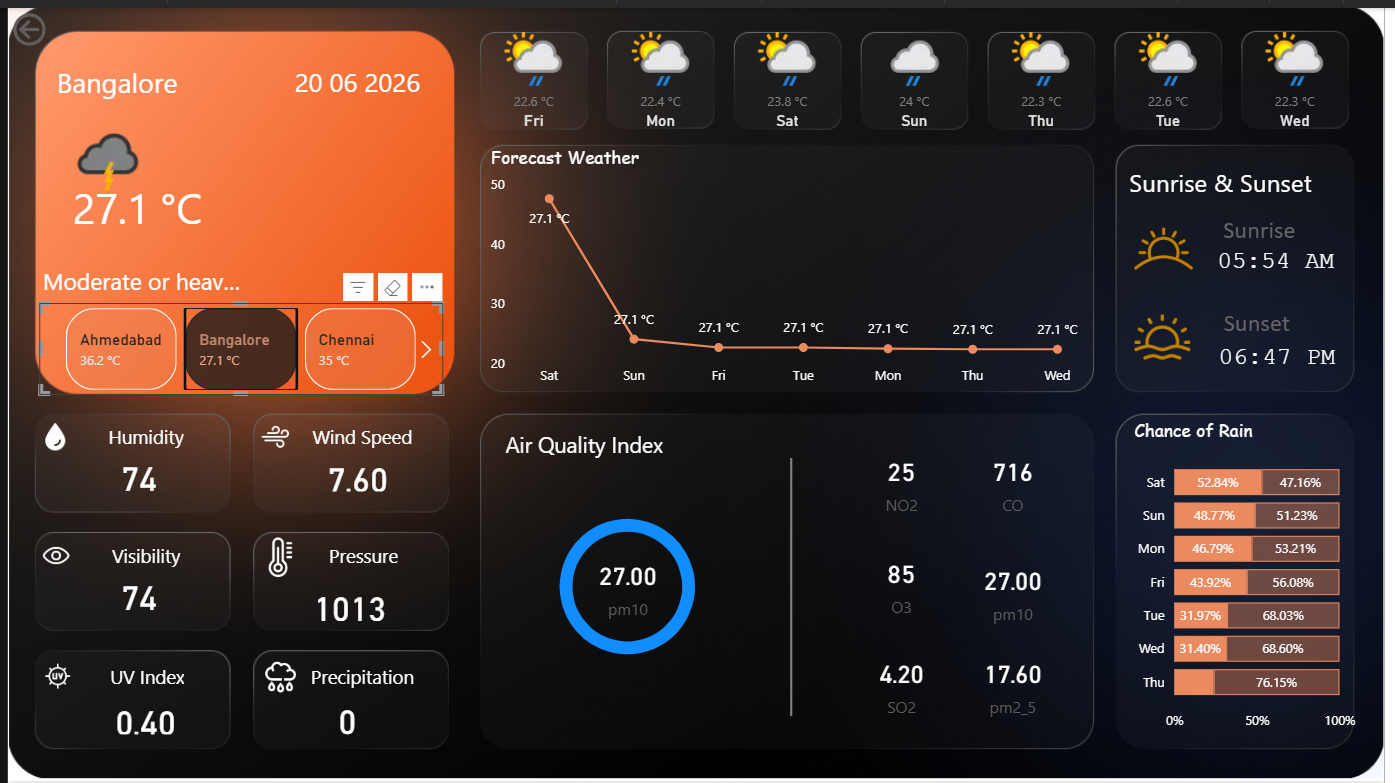

This screenshot's page, from the dashboard's own definition file:
{"tool":"powerbi","page":{"name":"Page 1","canvas":[1280,720],"ordinal":0},"visuals":[{"type":"advancedSlicerVisual","fields":{"Values":["Location.location.name"]},"box":[29.1,274.4,375.6,86],"z":0},{"type":"shape","box":[36,145.3,168.6,80.2],"z":1000},{"type":"shape","box":[25.6,233.7,191.9,40.7],"z":2000},{"type":"shape","box":[45.3,44.2,203.5,48.8],"z":3000},{"type":"shape","box":[248.8,44.2,152.3,47.7],"z":4000},{"type":"cardVisual","fields":{"Data":["Min(current.current.condition.icon)"]},"box":[36,79.1,114,117.4],"z":5000},{"type":"image","box":[25.6,360.5,37.2,76.7],"z":6000},{"type":"image","box":[230.2,360.5,37.2,76.7],"z":7000},{"type":"image","box":[25.6,470.9,38.4,76.7],"z":8000},{"type":"image","box":[230.2,483.7,46.5,54.7],"z":9000},{"type":"image","box":[29.1,577.9,34.9,87.2],"z":10000},{"type":"image","box":[225.6,600,55.8,45.3],"z":11000},{"type":"shape","box":[52.3,381.4,152.3,33.7],"z":12000},{"type":"shape","box":[253.5,381.4,152.3,33.7],"z":13000},{"type":"shape","box":[52.3,491.9,152.3,33.7],"z":14000},{"type":"shape","box":[53.5,604.7,152.3,33.7],"z":15000},{"type":"shape","box":[254.7,491.9,152.3,33.7],"z":16000},{"type":"shape","box":[253.5,604.7,152.3,33.7],"z":17000},{"type":"card","fields":{"Values":["Sum(current.current.humidity)"]},"box":[80.2,418.6,83.7,36],"z":18000},{"type":"card","fields":{"Values":["Sum(current.current.wind_kph)"]},"box":[283.8,418.8,83.8,36.2],"z":19000},{"type":"card","fields":{"Values":["Sum(current.current.humidity)"]},"box":[80.2,529.1,83.7,36],"z":20000},{"type":"card","fields":{"Values":["Sum(current.current.pressure_mb)"]},"box":[276.7,538,83.1,36.8],"z":21000},{"type":"card","fields":{"Values":["Sum(current.current.uv)"]},"box":[85.5,644.9,84.3,35.6],"z":22000},{"type":"card","fields":{"Values":["Sum(current.current.precip_in)"]},"box":[276.7,643.7,78.4,36.8],"z":23000},{"type":"advancedSlicerVisual","fields":{"Values":["Forecast_day.DAy_Name"]},"box":[428.6,7.1,830,142.9],"z":23001},{"type":"lineChart","title":"Forecast Weather","fields":{"Y":["Sum(Forecast_day.forecast.forecastday.day.avgtemp_c)"],"Category":["Forecast_day.DAy_Name"]},"box":[443.8,127.5,568.8,232.5],"z":23002},{"type":"shape","box":[1042.9,137.1,202.9,48.6],"z":23003},{"type":"shape","box":[1112.9,207.1,132.9,58.6],"z":23004},{"type":"shape","box":[1114.3,291.4,132.9,67.1],"z":23005},{"type":"shape","box":[1097.1,187.1,132.9,38.6],"z":23006},{"type":"shape","box":[1095.7,261.4,132.9,62.9],"z":23007},{"type":"image","box":[1042.9,274.3,61.4,62.9],"z":23008},{"type":"image","box":[1031.4,182.9,87.1,82.9],"z":23009},{"type":"hundredPercentStackedBarChart","title":"Chance of Rain","fields":{"Category":["Forecast_day.DAy_Name"],"Y":["Sum(Forecast_day.forecast.forecastday.day.daily_chance_of_rain)","_Measure.Left_Value_rain"]},"box":[1042.9,381.4,215.7,300],"z":23010},{"type":"card","fields":{"Values":["Sum(current.current.air_quality.co)"]},"box":[892.5,406.2,83.8,71.2],"z":23011},{"type":"shape","box":[462.5,381.2,203.8,48.8],"z":23012},{"type":"card","fields":{"Values":["Sum(current.current.air_quality.pm10)"]},"box":[535,502.5,83.8,71.2],"z":23013},{"type":"card","fields":{"Values":["Sum(current.current.air_quality.o3)"]},"box":[790,501.2,83.8,71.2],"z":23014},{"type":"card","fields":{"Values":["Sum(current.current.air_quality.no2)"]},"box":[790,406.2,83.8,71.2],"z":23015},{"type":"card","fields":{"Values":["Sum(current.current.air_quality.pm2_5)"]},"box":[892.5,593.8,83.8,71.2],"z":23016},{"type":"card","fields":{"Values":["Sum(current.current.air_quality.so2)"]},"box":[790,593.8,83.8,71.2],"z":23017},{"type":"shape","box":[652.5,418.8,152.5,240],"z":23018},{"type":"actionButton","box":[0,0,100,40],"z":23020},{"type":"card","fields":{"Values":["Sum(current.current.air_quality.pm10)"]},"box":[892.5,507.5,83.8,71.2],"z":23021},{"type":"donutChart","fields":{"Y":["Sum(current.current.air_quality.pm10)"]},"box":[475,455,203.8,167.5],"z":23022}]}

Visuals, with their boxes in screenshot pixels (x1, y1, x2, y2), scaled from the page's 1280x720 canvas onto the 1395x783 screenshot:
advancedSlicerVisual - Location.location.name: 32, 298, 441, 392
shape: 39, 158, 223, 245
shape: 28, 254, 237, 298
shape: 49, 48, 271, 101
shape: 271, 48, 437, 100
cardVisual - Min(current.current.condition.icon): 39, 86, 163, 214
image: 28, 392, 68, 475
image: 251, 392, 291, 475
image: 28, 512, 70, 596
image: 251, 526, 302, 586
image: 32, 628, 70, 723
image: 246, 652, 307, 702
shape: 57, 415, 223, 451
shape: 276, 415, 442, 451
shape: 57, 535, 223, 572
shape: 58, 658, 224, 694
shape: 278, 535, 444, 572
shape: 276, 658, 442, 694
card - Sum(current.current.humidity): 87, 455, 179, 494
card - Sum(current.current.wind_kph): 309, 455, 401, 495
card - Sum(current.current.humidity): 87, 575, 179, 615
card - Sum(current.current.pressure_mb): 302, 585, 392, 625
card - Sum(current.current.uv): 93, 701, 185, 740
card - Sum(current.current.precip_in): 302, 700, 387, 740
advancedSlicerVisual - Forecast_day.DAy_Name: 467, 8, 1372, 163
"Forecast Weather" lineChart: 484, 139, 1104, 391
shape: 1137, 149, 1358, 202
shape: 1213, 225, 1358, 289
shape: 1214, 317, 1359, 390
shape: 1196, 203, 1341, 245
shape: 1194, 284, 1339, 353
image: 1137, 298, 1204, 367
image: 1124, 199, 1219, 289
"Chance of Rain" hundredPercentStackedBarChart: 1137, 415, 1372, 741
card - Sum(current.current.air_quality.co): 973, 442, 1064, 519
shape: 504, 415, 726, 468
card - Sum(current.current.air_quality.pm10): 583, 546, 674, 624
card - Sum(current.current.air_quality.o3): 861, 545, 952, 622
card - Sum(current.current.air_quality.no2): 861, 442, 952, 519
card - Sum(current.current.air_quality.pm2_5): 973, 646, 1064, 723
card - Sum(current.current.air_quality.so2): 861, 646, 952, 723
shape: 711, 455, 877, 716
actionButton: 0, 0, 109, 44
card - Sum(current.current.air_quality.pm10): 973, 552, 1064, 629
donutChart - Sum(current.current.air_quality.pm10): 518, 495, 740, 677
